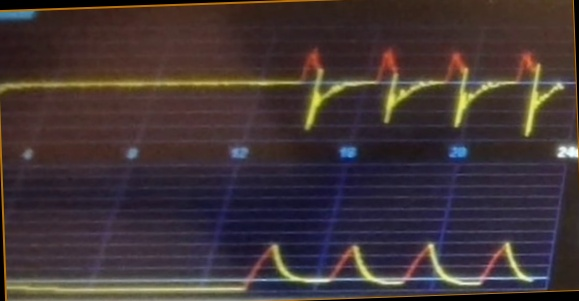Accumulation Flow: (195, 28, 568, 137)
Volume: (214, 224, 532, 291)
